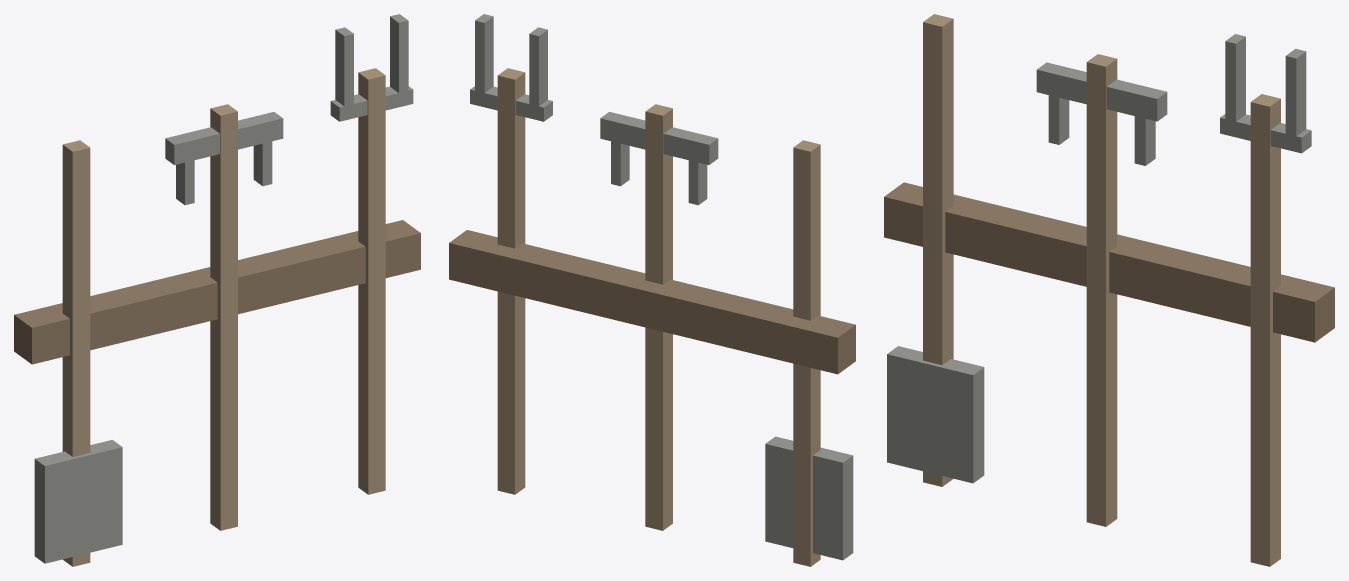
File: tool-rack.glb
3 renders of one model, left to right at view 1: azimuth 30°, elevation 25°; view 2: azimuth 150°, elevation 25°; view 3: azimuth 330°, elevation 25°, orthographic. The views are drawn at different scales.
Parts seen in each view (by area): view 1: tool_rack; view 2: tool_rack; view 3: tool_rack.
Part boxes in pixels (left/top/right/bottom): tool_rack: left=14, top=14, right=420, bottom=566; tool_rack: left=449, top=14, right=855, bottom=566; tool_rack: left=884, top=14, right=1334, bottom=566.
Size of the model in its own units: 0.3333 by 0.38 by 0.0342.
